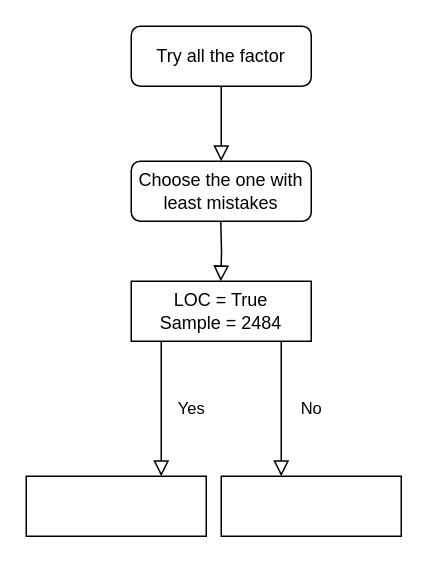
This 428x563 diagram has some shape labels left out. The centre of each missing label's shape, as x and y in pixels:
"Rest of the sample" belongs at (115,505).
"Sample = 1061" belongs at (310,505).
